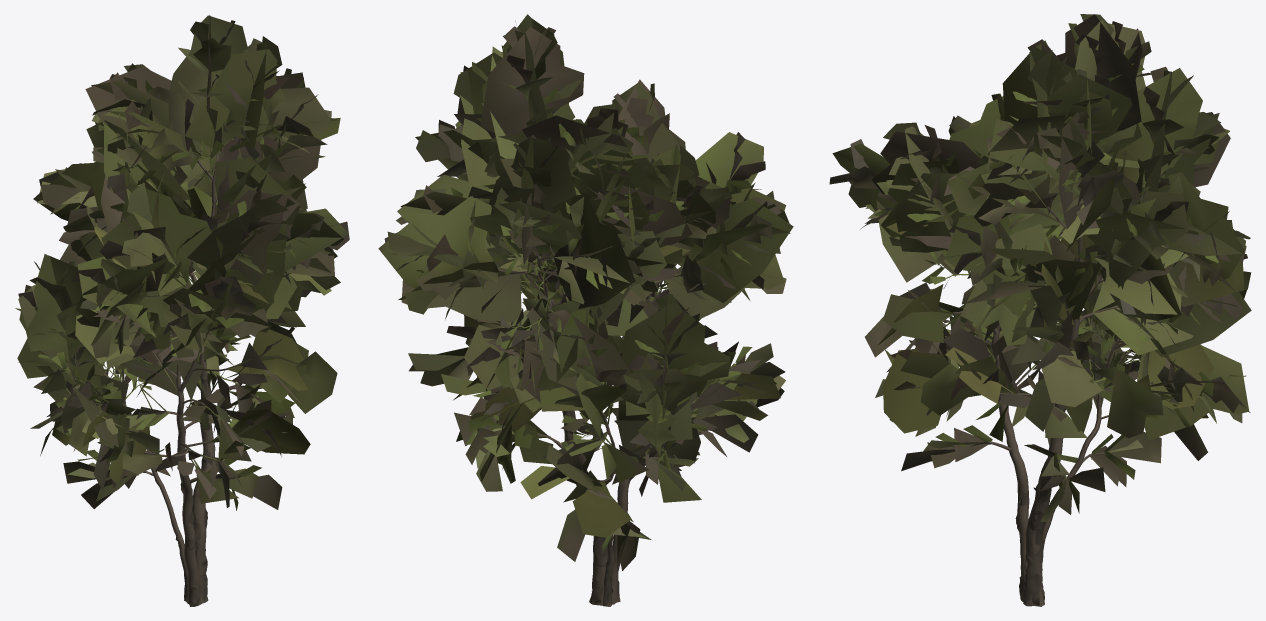
The model's file is SM_BlackAlder_Forest_05_PP_LOD3.gltf.
The picture shows the model from 3 angles, left to right: view 1: azimuth 30°, elevation 25°; view 2: azimuth 150°, elevation 25°; view 3: azimuth 270°, elevation 25°; orthographic projection. The views are drawn at different scales.
Parts seen in each view (by area): view 1: SM_BlackAlder_Forest_05_PP; view 2: SM_BlackAlder_Forest_05_PP; view 3: SM_BlackAlder_Forest_05_PP.
Part boxes in pixels (<box>): SM_BlackAlder_Forest_05_PP: <box>15,15,349,606</box>; SM_BlackAlder_Forest_05_PP: <box>378,14,793,606</box>; SM_BlackAlder_Forest_05_PP: <box>829,14,1251,606</box>.
Bounding box in the file's own units: 6.13 × 11.16 × 7.12.
Materials: 3 (3 with a texture image).
